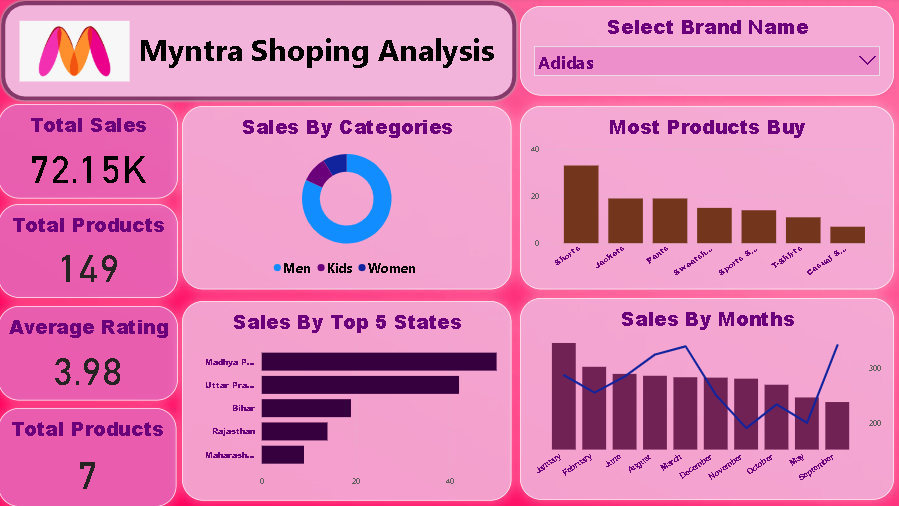

What the dashboard file says about the page in this screenshot:
{"tool":"powerbi","page":{"name":"Page 1","canvas":[1280,720],"ordinal":0},"visuals":[{"type":"card","title":"Total Products","fields":{"Values":["CountNonNull(fact_orders.Product ID)"]},"box":[0,292.5,255.4,132.7],"z":0},{"type":"card","title":"Average Rating","fields":{"Values":["Avg(dim_products.Ratings)"]},"box":[0,436.7,255.4,134.1],"z":1},{"type":"card","title":"Total Sales","fields":{"Values":["Sum(fact_orders.Sales_price)"]},"box":[0,149.8,255.4,134.1],"z":2},{"type":"card","title":"Total Products","fields":{"Values":["Count(dim_products.Product Name)"]},"box":[0,580.8,252.6,139.8],"z":3},{"type":"shape","box":[0,0,739.2,149.8],"z":4},{"type":"image","box":[25.7,11.4,165.5,127],"z":6},{"type":"card","title":"Myntra Shoping Analysis","fields":{"Values":["CountNonNull(fact_orders.Product ID)"]},"box":[138.4,42.8,625,65.6],"z":7},{"type":"columnChart","title":"Most Products Buy","fields":{"Category":["dim_products.Product Name"],"Y":["CountNonNull(dim_products.Product Name)"]},"box":[740,152.5,530.4,260.4],"z":8},{"type":"donutChart","title":"Sales By Categories","fields":{"Y":["CountNonNull(fact_orders.Order ID)"],"Category":["dim_products.Category"]},"box":[260.4,152.5,466.9,260.4],"z":9},{"type":"barChart","title":"Sales By Top 5 States","fields":{"Category":["dim_customers.State"],"Y":["CountNonNull(fact_orders.Order ID)"]},"box":[260.4,428.8,466.9,282.7],"z":10},{"type":"lineStackedColumnComboChart","title":"Sales By Months","fields":{"Y":["Sum(fact_orders.Sales_price)"],"Y2":["Avg(fact_orders.Discount)"],"Category":["date_Table.Month_name"]},"box":[740,425.6,530.4,285.9],"z":11},{"type":"slicer","title":"Select Brand Name","fields":{"Values":["dim_products.Brand Name"]},"box":[740,11.1,530.4,127],"z":12}]}

Visuals, with their boxes in screenshot pixels (x1, y1, x2, y2), scaled from the page's 1280x720 canvas onto the 899x506 screenshot:
"Total Products" card: [0,206,179,299]
"Average Rating" card: [0,307,179,401]
"Total Sales" card: [0,105,179,200]
"Total Products" card: [0,408,177,505]
shape: [0,0,519,105]
image: [18,8,134,97]
"Myntra Shoping Analysis" card: [97,30,536,76]
"Most Products Buy" columnChart: [520,107,892,290]
"Sales By Categories" donutChart: [183,107,511,290]
"Sales By Top 5 States" barChart: [183,301,511,500]
"Sales By Months" lineStackedColumnComboChart: [520,299,892,500]
"Select Brand Name" slicer: [520,8,892,97]
